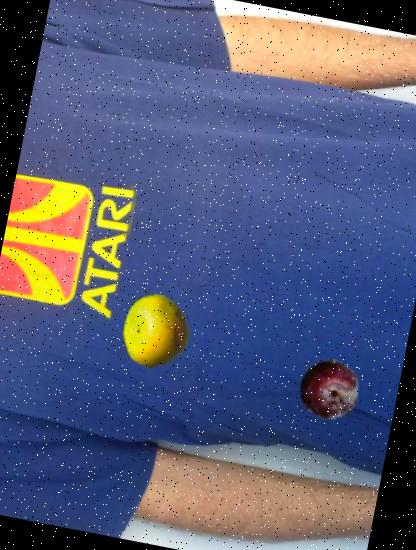Plum: (294, 354, 364, 424)
Pomelo: (113, 288, 200, 374)
